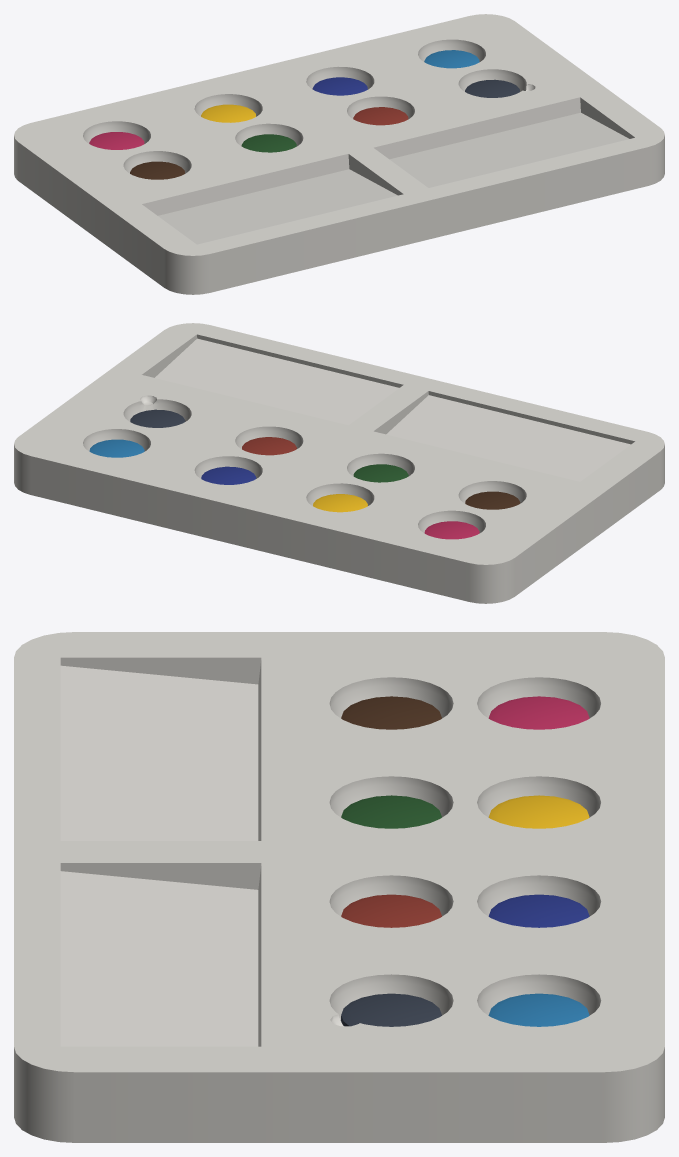
Rendered from palette.glb.
The picture shows the model from 3 angles, top to bottom: view 1: azimuth 30°, elevation 25°; view 2: azimuth 150°, elevation 25°; view 3: azimuth 270°, elevation 25°; orthographic projection. The views are drawn at different scales.
Visible parts, largest first — view 1: Palette_Body, Palette_Cake_5_Mesh, Palette_Cake_1_Mesh, Palette_Cake_4_Mesh, Palette_Cake_3_Mesh, Palette_Cake_6_Mesh, Palette_Cake_2_Mesh, Palette_Cake_0_Mesh, Palette_Cake_7_Mesh; view 2: Palette_Body, Palette_Cake_4_Mesh, Palette_Cake_5_Mesh, Palette_Cake_0_Mesh, Palette_Cake_6_Mesh, Palette_Cake_3_Mesh, Palette_Cake_2_Mesh, Palette_Cake_7_Mesh, Palette_Cake_1_Mesh; view 3: Palette_Body, Palette_Cake_7_Mesh, Palette_Cake_1_Mesh, Palette_Cake_0_Mesh, Palette_Cake_4_Mesh, Palette_Cake_2_Mesh, Palette_Cake_5_Mesh, Palette_Cake_6_Mesh, Palette_Cake_3_Mesh.
Boxes of the visible parts, box(x1,y1,x2,y2) form: Palette_Body: box(14, 14, 664, 294); Palette_Cake_5_Mesh: box(241, 134, 296, 152); Palette_Cake_1_Mesh: box(201, 104, 255, 122); Palette_Cake_4_Mesh: box(130, 161, 184, 179); Palette_Cake_3_Mesh: box(424, 50, 479, 68); Palette_Cake_6_Mesh: box(353, 107, 408, 125); Palette_Cake_2_Mesh: box(312, 77, 367, 95); Palette_Cake_0_Mesh: box(89, 132, 144, 149); Palette_Cake_7_Mesh: box(465, 79, 519, 97); Palette_Body: box(14, 323, 664, 603); Palette_Cake_4_Mesh: box(465, 491, 520, 509); Palette_Cake_5_Mesh: box(353, 464, 408, 482); Palette_Cake_0_Mesh: box(424, 521, 479, 539); Palette_Cake_6_Mesh: box(242, 437, 296, 455); Palette_Cake_3_Mesh: box(89, 439, 144, 457); Palette_Cake_2_Mesh: box(201, 466, 256, 484); Palette_Cake_7_Mesh: box(130, 409, 185, 427); Palette_Cake_1_Mesh: box(313, 494, 367, 512); Palette_Body: box(14, 632, 664, 1142); Palette_Cake_7_Mesh: box(340, 993, 441, 1026); Palette_Cake_1_Mesh: box(488, 795, 589, 828); Palette_Cake_0_Mesh: box(488, 696, 589, 729); Palette_Cake_4_Mesh: box(341, 696, 441, 729); Palette_Cake_2_Mesh: box(488, 894, 589, 927); Palette_Cake_5_Mesh: box(341, 795, 441, 828); Palette_Cake_6_Mesh: box(341, 894, 441, 927); Palette_Cake_3_Mesh: box(488, 993, 589, 1026).
Size of the model in its own units: 0.24 by 0.018 by 0.15.
